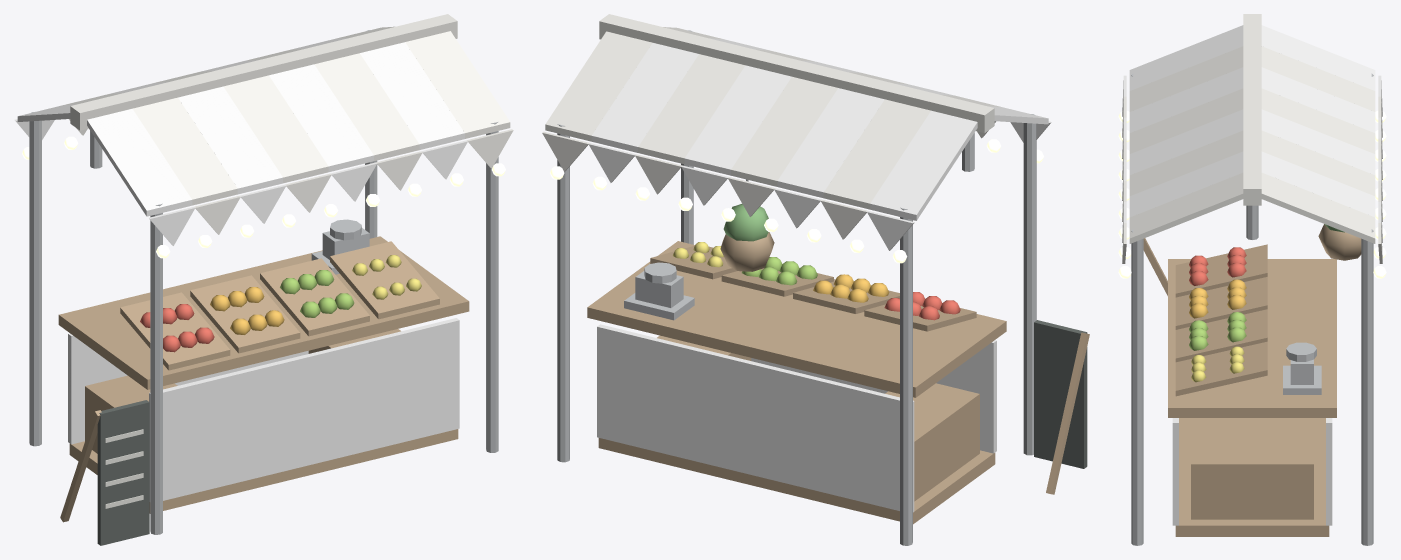
File: market_stall.glb
3 renders of one model, left to right at view 1: azimuth 30°, elevation 25°; view 2: azimuth 150°, elevation 25°; view 3: azimuth 270°, elevation 25°, orthographic. The views are drawn at different scales.
Visible parts, largest first — view 1: pm_stall_trim_mesh, pm_stall_paint_mesh; view 2: pm_stall_trim_mesh, pm_stall_paint_mesh; view 3: pm_stall_trim_mesh, pm_stall_paint_mesh.
Part boxes in pixels (box(x1,y1,x2,y2)): pm_stall_trim_mesh: box(22, 14, 513, 545); pm_stall_paint_mesh: box(14, 37, 467, 501); pm_stall_trim_mesh: box(542, 14, 1089, 545); pm_stall_paint_mesh: box(588, 38, 1051, 512); pm_stall_trim_mesh: box(1118, 14, 1386, 545); pm_stall_paint_mesh: box(1122, 25, 1382, 525).
Size of the model in its own units: 2.97 by 2.63 by 1.75.
